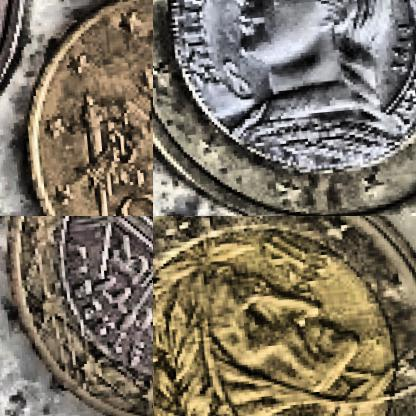coin: (153, 0, 415, 215), (153, 216, 415, 415), (11, 0, 152, 215), (0, 216, 152, 415)
